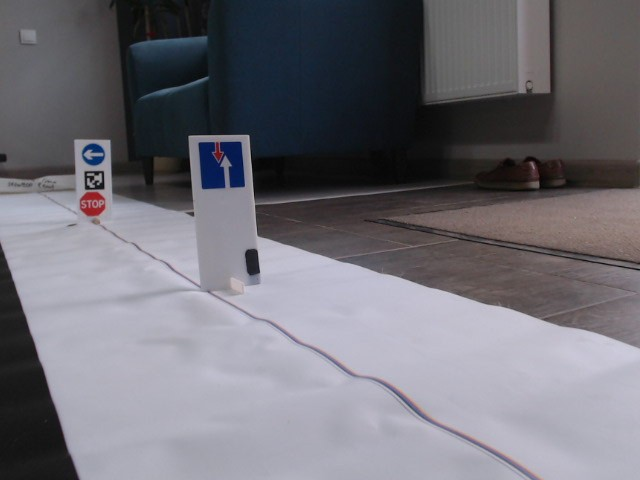Stop: (79, 191, 106, 216)
priority_movement: (198, 141, 245, 188)
